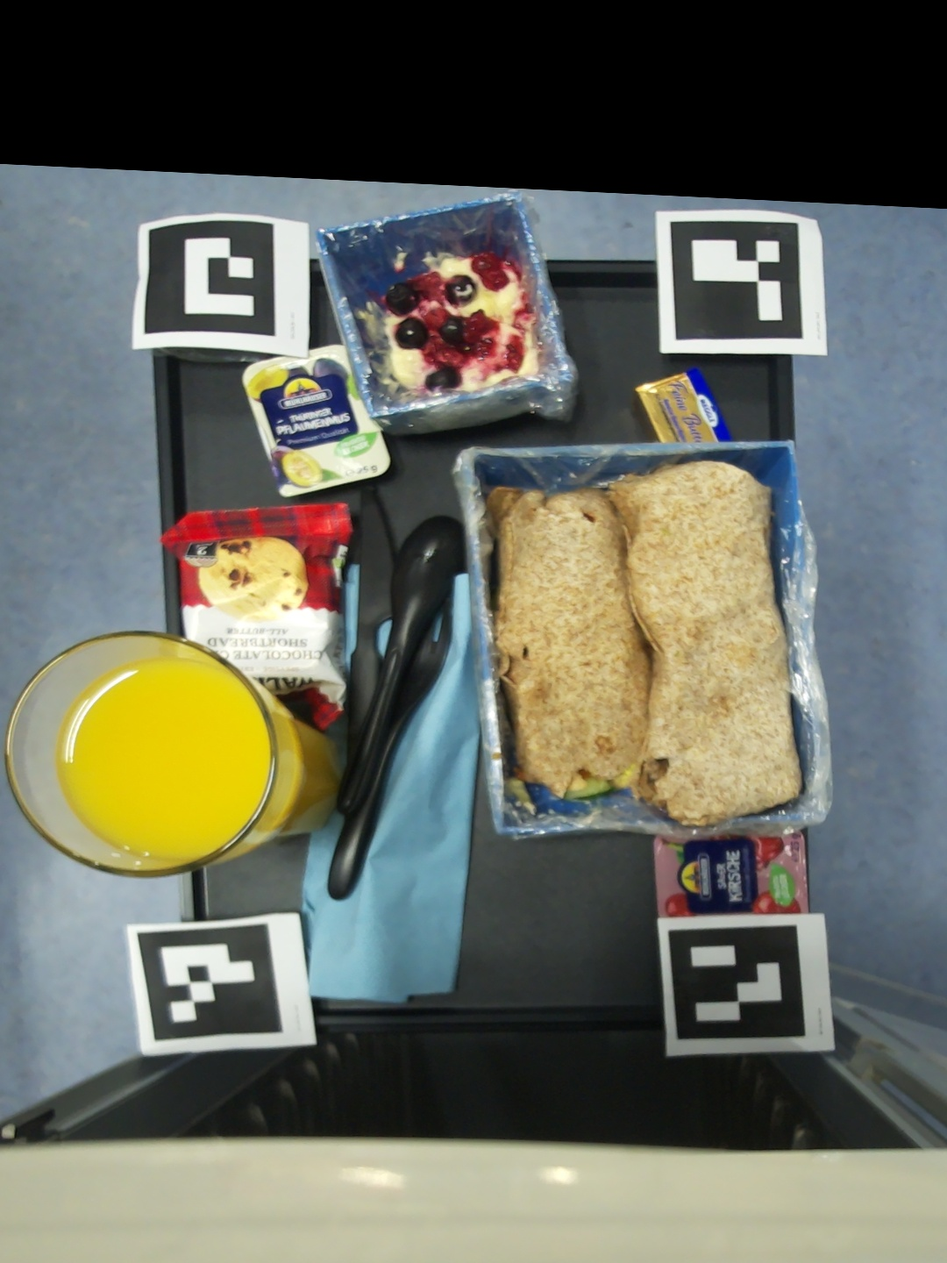butter: (635, 367, 733, 443)
cherry_jam: (654, 834, 809, 917)
cookie: (161, 503, 353, 731)
orange_juice_bottle: (4, 632, 342, 880)
plum_jam: (241, 344, 390, 498)
vanilla_pudding_with_fruits: (381, 252, 540, 392), (394, 253, 408, 274)
wrap_half_1: (486, 487, 651, 815)
wrap_half_2: (607, 461, 803, 825)
